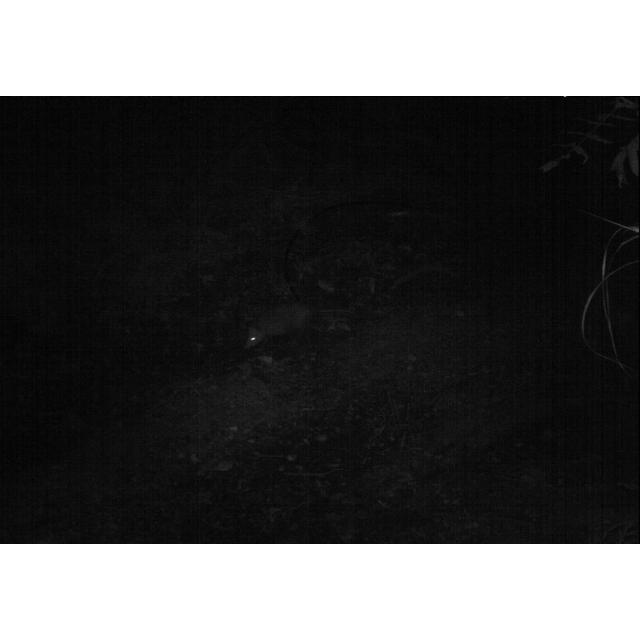animals: (244, 300, 316, 346)
